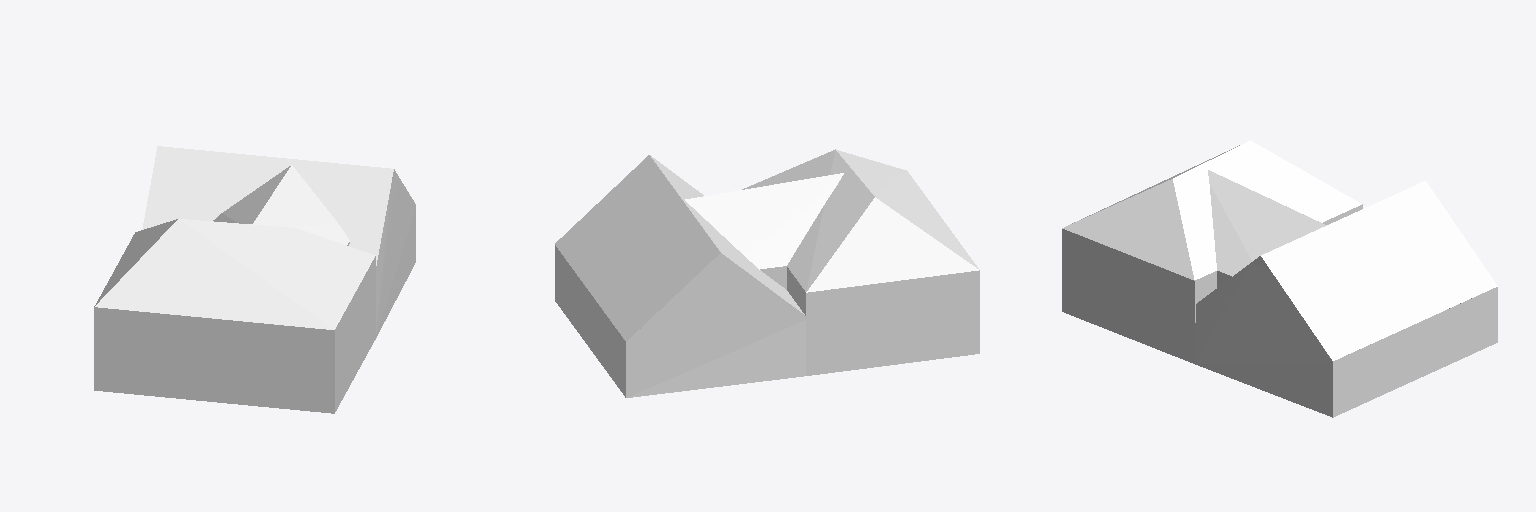
Rendered from house_Shape 269.obj.
The picture shows the model from 3 angles: view 1: azimuth 30°, elevation 25°; view 2: azimuth 150°, elevation 25°; view 3: azimuth 270°, elevation 25°; orthographic projection.
Parts seen in each view (by area): view 1: CityEngineMaterial_12, CityEngineMaterial_70; view 2: CityEngineMaterial_12, CityEngineMaterial_70, CityEngineMaterial_60; view 3: CityEngineMaterial_12, CityEngineMaterial_70.
Boxes of the visible parts, x1,y1,x2,y2 form: CityEngineMaterial_12: [94, 146, 393, 329]; CityEngineMaterial_70: [94, 174, 415, 413]; CityEngineMaterial_12: [555, 149, 978, 341]; CityEngineMaterial_70: [555, 245, 979, 397]; CityEngineMaterial_60: [760, 266, 805, 315]; CityEngineMaterial_12: [1062, 140, 1497, 360]; CityEngineMaterial_70: [1062, 229, 1497, 417].
Bounding box in the file's own units: 14.35 × 5.18 × 14.49.